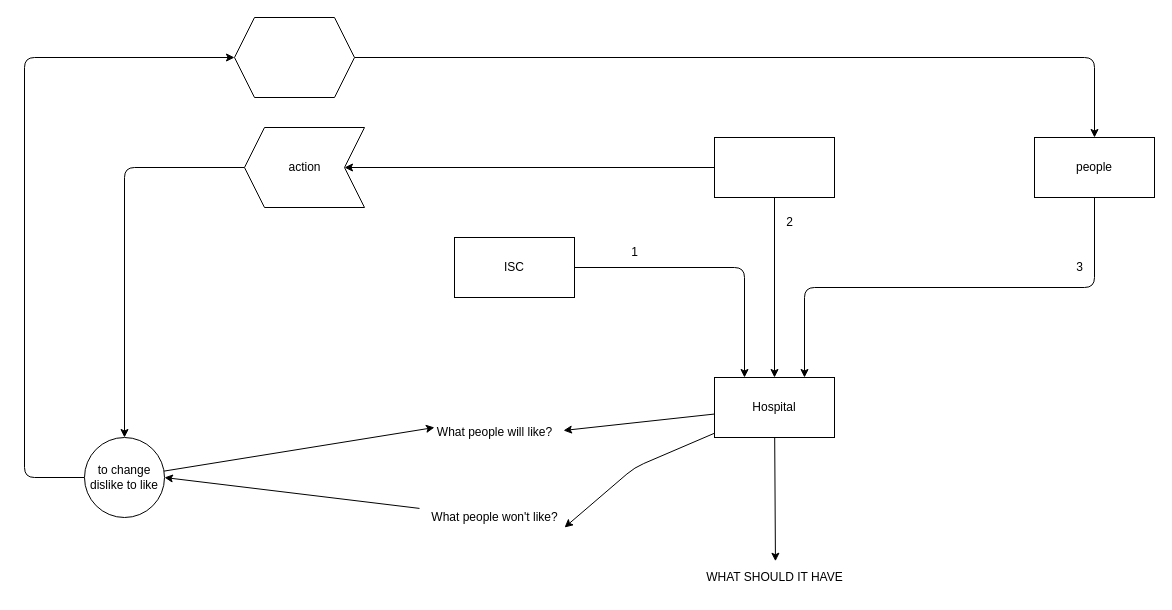
Image size: 1172x610. Some labels were removed from this diagram. Each missing label, with the centre of its shape:
"gowroment / owner" belongs at (774,167).
"make happy people" belongs at (294,57).
